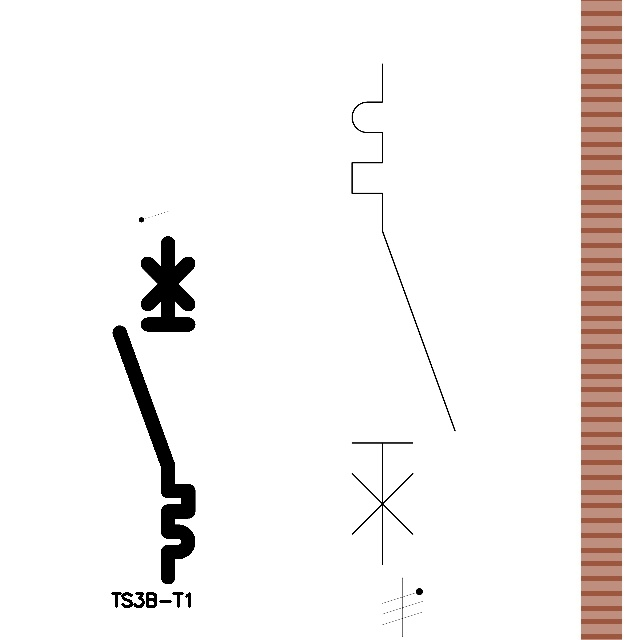interruptor_termomagnetico: (339, 51, 468, 578), (111, 234, 197, 586)
